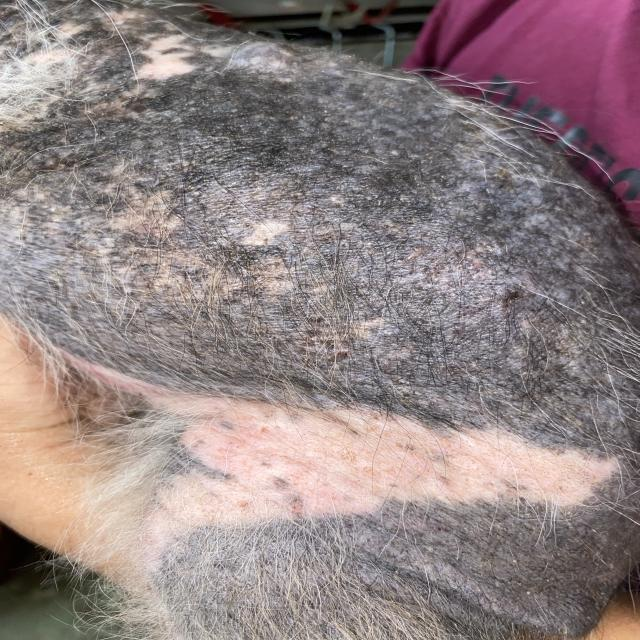demodicosis: (34, 83, 579, 383), (202, 415, 615, 613)
